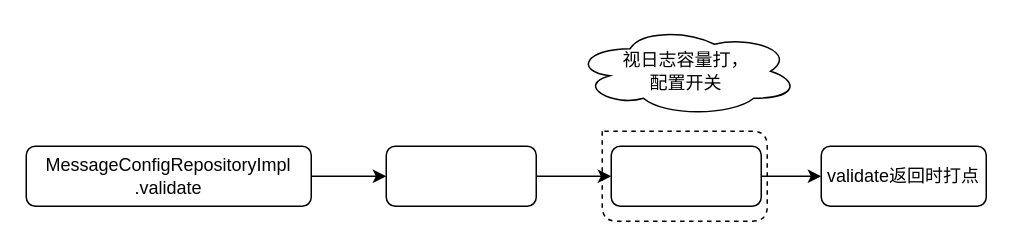
Image size: 1013x249. Some labels were removed from this diagram. The shapes that lost their labels are listed below. From the top down, each one's centre as x and y in pixels, then its label:
At point 460,175: "validate入口打点".
At point 685,175: "validate每个过滤项前后都打点".
